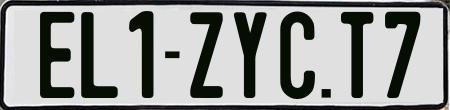1: (126, 8, 151, 101)
7: (383, 10, 419, 98)
C: (279, 9, 316, 97)
E: (38, 9, 72, 99)
L: (79, 10, 116, 102)
T: (341, 11, 378, 102)
Y: (231, 9, 270, 99)
Z: (187, 11, 226, 102)
